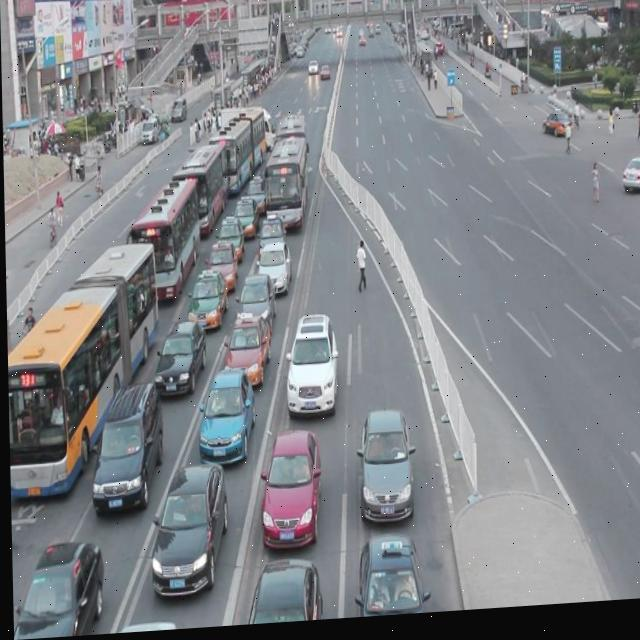bus: (217, 108, 276, 159)
car: (146, 462, 225, 599), (87, 382, 162, 515), (10, 537, 102, 639), (257, 433, 320, 552), (352, 412, 414, 527), (350, 540, 427, 622), (236, 560, 319, 628), (283, 315, 336, 418), (196, 372, 253, 466), (154, 320, 205, 399), (222, 312, 269, 391), (233, 275, 275, 338), (186, 270, 227, 334), (254, 243, 290, 296), (202, 244, 237, 292), (255, 217, 285, 264), (213, 217, 243, 264), (99, 619, 177, 635), (231, 196, 257, 241), (243, 177, 267, 218), (540, 115, 571, 146), (617, 162, 640, 201)
van: (4, 240, 161, 499), (129, 184, 200, 305), (171, 146, 229, 240), (207, 109, 267, 199), (259, 141, 308, 233), (272, 115, 309, 187)
